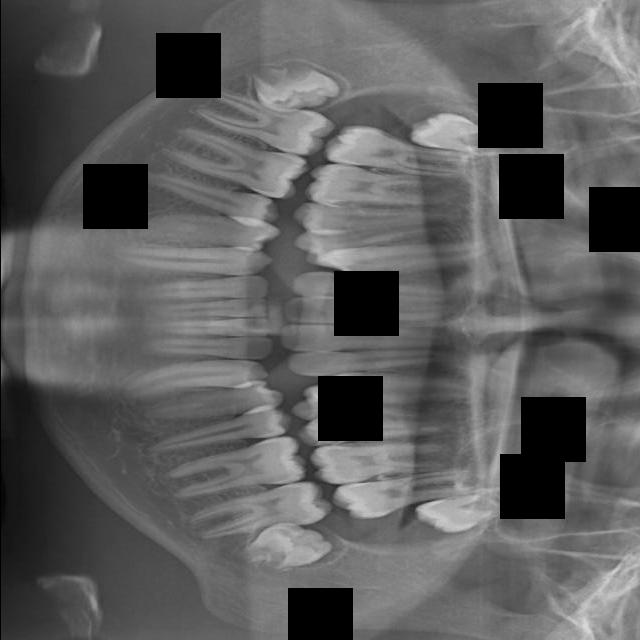3M ESPE Implant: (404, 100, 508, 165)
AGS Medikal Implant: (247, 512, 248, 513)
AMerOss Implant: (158, 430, 310, 513)
Amalgam filling: (322, 118, 478, 184)
Anthogyr Implant: (135, 407, 294, 461)
Bicon Implant: (135, 379, 290, 432)
BioHorizons Implant: (110, 354, 271, 406)
BioLife Implant: (140, 337, 274, 361)
Biomet 3i Implant: (133, 318, 269, 339)
Blue Sky Bio Implant: (131, 293, 268, 329)
Camlog Implant: (122, 273, 270, 306)
Caries: (284, 347, 478, 379)
Composite filling: (92, 238, 275, 278)
Cowellmedi Implant: (121, 207, 288, 251)
Crown: (125, 166, 285, 228)
DENTSPLY Implant: (302, 159, 482, 215)
Dentatus Implant: (145, 118, 311, 206)
Dentis Implant: (250, 118, 251, 118)
Dentium Implant: (241, 44, 349, 117)
Euroteknika Implant: (290, 202, 498, 231)
Filling: (290, 219, 481, 257)
Frontier Implant: (301, 230, 529, 285)
Hiossen Implant: (300, 366, 493, 413)
Implant: (281, 294, 479, 329)
Implant Direct: (289, 269, 477, 308)
Keystone Dental Implant: (274, 324, 461, 354)
MIS Implant: (287, 395, 465, 434)
Mandible: (295, 409, 474, 448)
Maxilla: (306, 428, 460, 488)
Megagen Implant: (329, 457, 493, 528)
Neodent Implant: (410, 481, 509, 541)
Neoss Implant: (230, 525, 340, 579)
